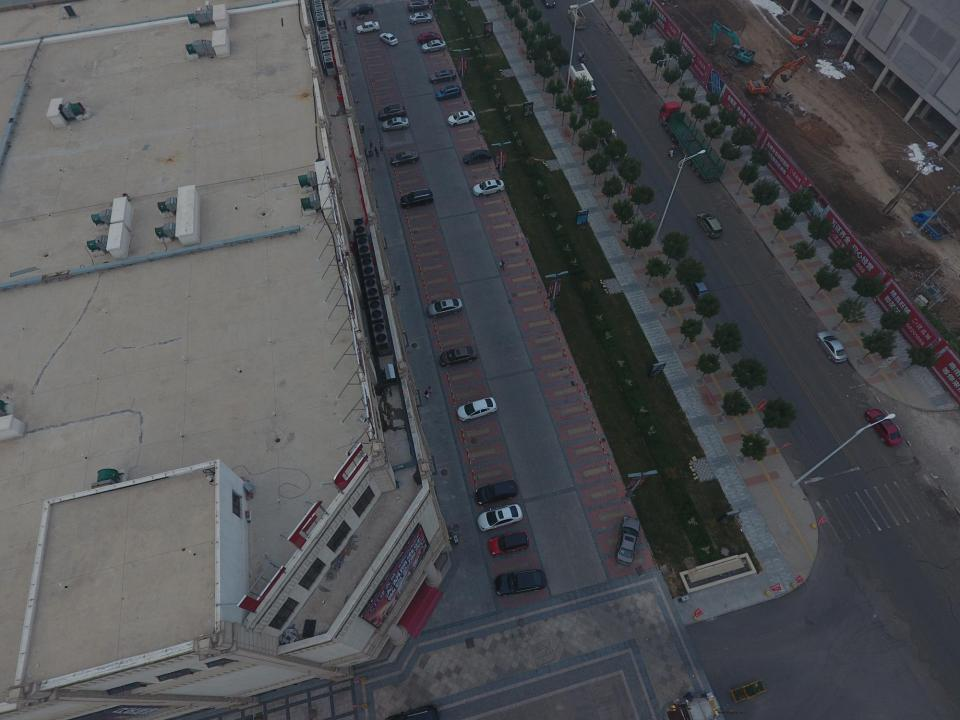car: (614, 516, 646, 567), (865, 405, 902, 447), (494, 569, 547, 598), (476, 503, 521, 534), (475, 478, 520, 508), (487, 530, 533, 556), (455, 395, 496, 423), (815, 329, 848, 363), (439, 343, 480, 368), (686, 271, 713, 305), (422, 297, 464, 318), (398, 188, 435, 210), (470, 176, 504, 199), (696, 212, 723, 239), (386, 149, 422, 167), (446, 109, 476, 128), (429, 66, 459, 85), (461, 147, 491, 165), (380, 116, 410, 134), (379, 103, 409, 121), (434, 85, 464, 103), (414, 29, 443, 43), (420, 40, 448, 54), (357, 19, 380, 35), (408, 11, 434, 25), (350, 3, 375, 16), (376, 33, 397, 48), (407, 0, 431, 12)
truck: (656, 99, 725, 182), (910, 207, 952, 242), (567, 62, 597, 103), (598, 125, 629, 160), (566, 4, 586, 29)
